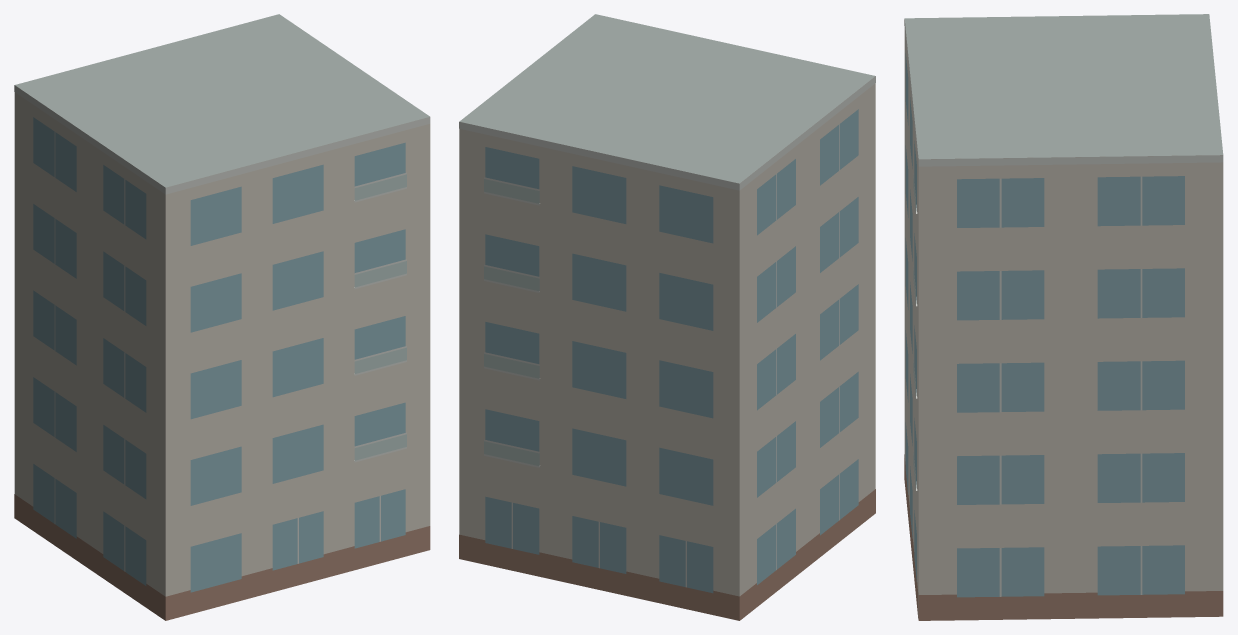
The model's file is survey-upis-33017243.glb.
3 views of the same model, side by side, from view 1: azimuth 30°, elevation 25°; view 2: azimuth 150°, elevation 25°; view 3: azimuth 270°, elevation 25° (orthographic). The views are drawn at different scales.
Parts seen in each view (by area): view 1: survey-upis-33017243.tmp; view 2: survey-upis-33017243.tmp; view 3: survey-upis-33017243.tmp.
Boxes of the visible parts, box(x1,y1,x2,y2) form: survey-upis-33017243.tmp: box(14, 14, 430, 620); survey-upis-33017243.tmp: box(459, 14, 875, 620); survey-upis-33017243.tmp: box(904, 14, 1223, 620).
Size of the model in its own units: 10.3 by 15.25 by 9.55.
